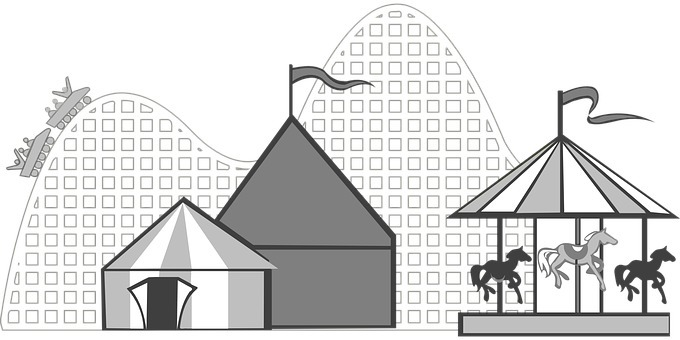horse: (538, 226, 622, 291), (469, 243, 535, 305), (615, 243, 677, 303)
